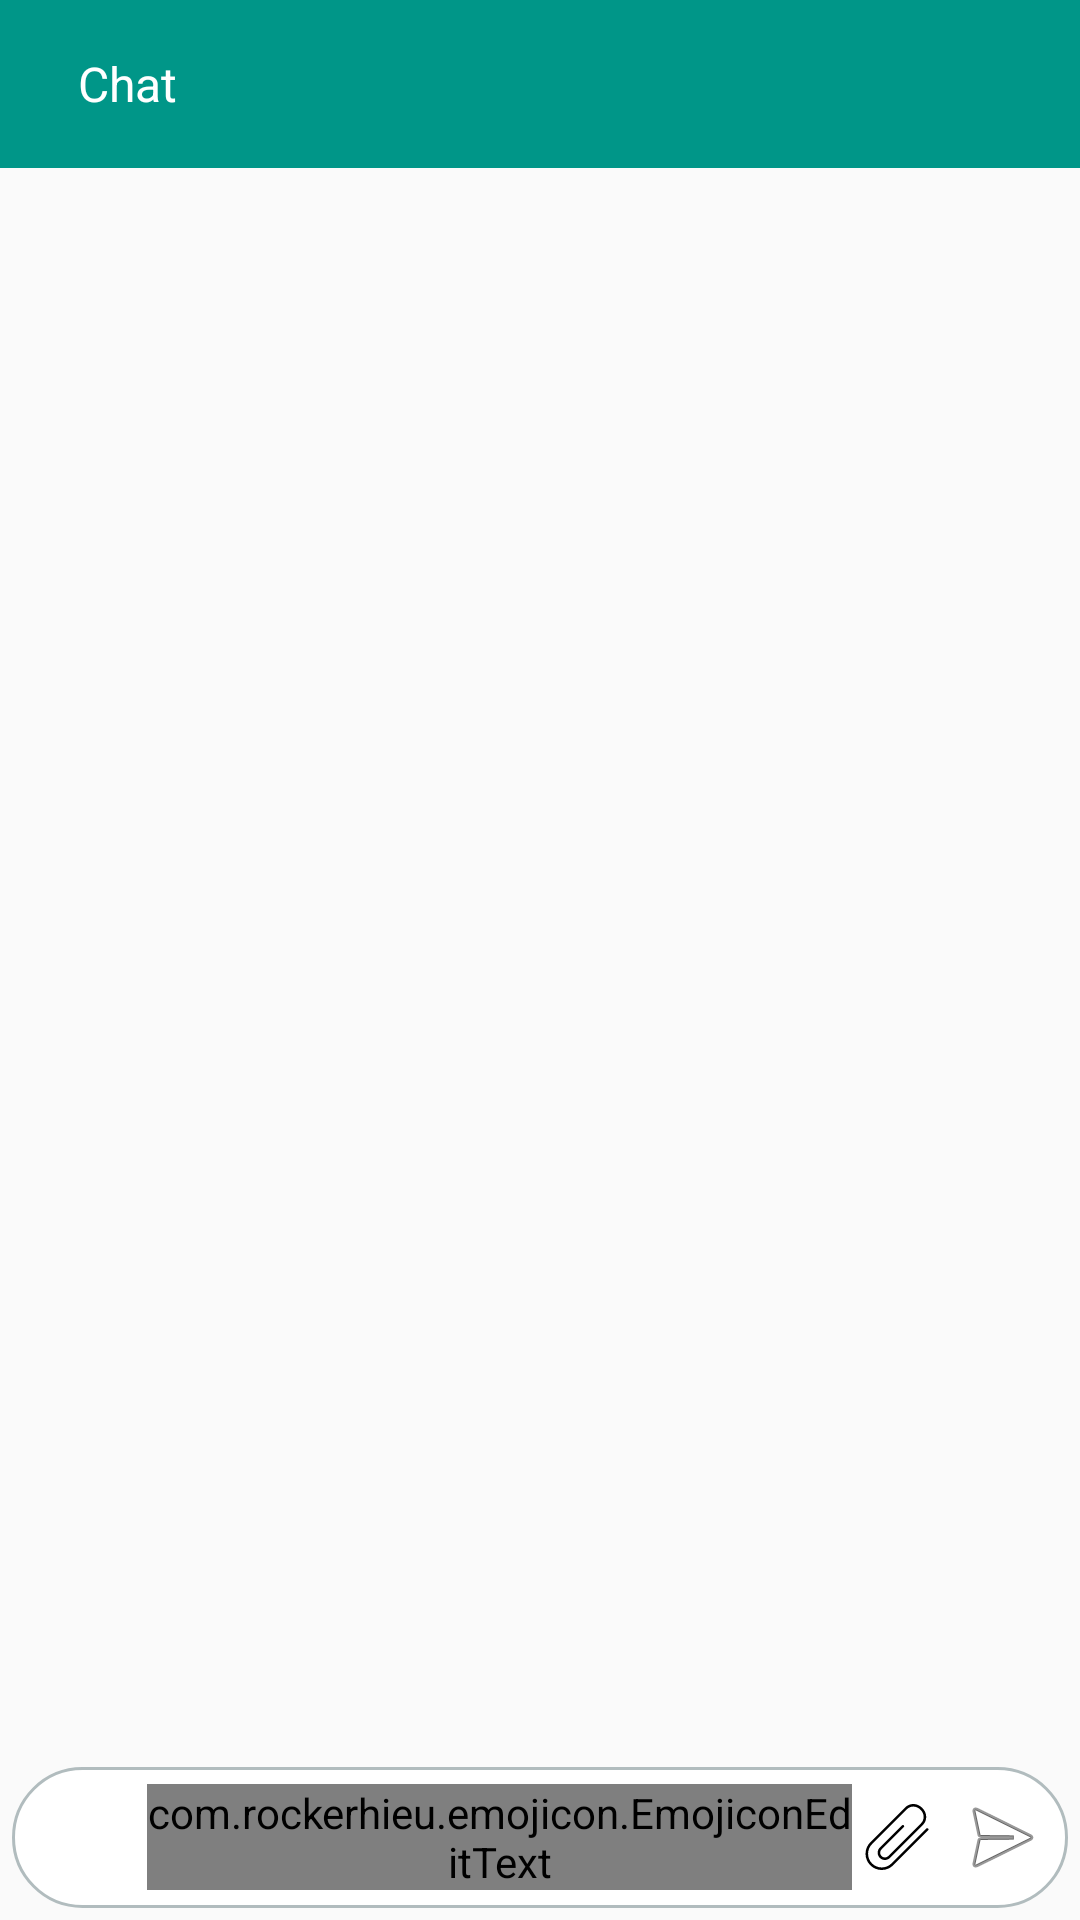

Icons on this 1080 × 1920 Android screen, each with its box as BBox(x1, y1, x2, y2):
attach: BBox(865, 1804, 929, 1870)
send: BBox(972, 1807, 1034, 1868)
